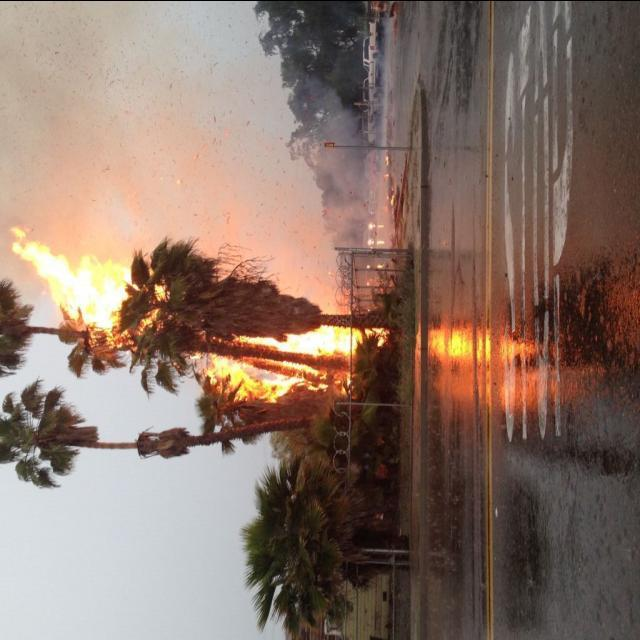Fire: (2, 233, 387, 400)
